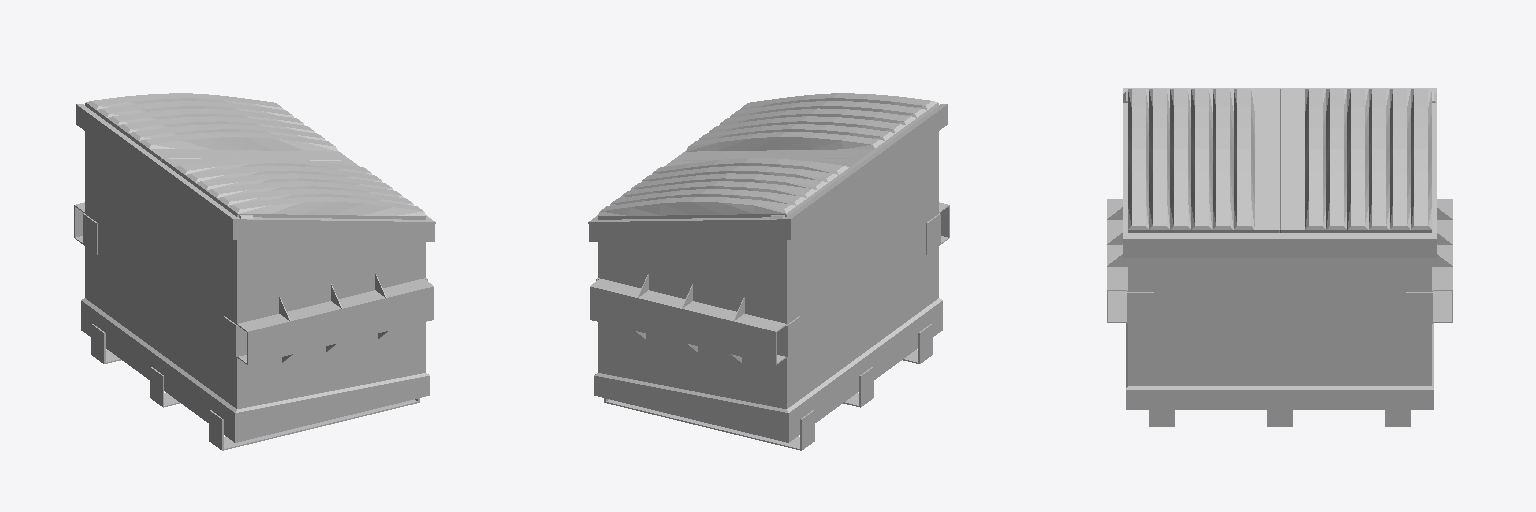
Rendered from Dumpster.obj.
The picture shows the model from 3 angles: view 1: azimuth 30°, elevation 25°; view 2: azimuth 150°, elevation 25°; view 3: azimuth 270°, elevation 25°; orthographic projection.
Visible parts, largest first — view 1: defaultMaterial; view 2: defaultMaterial; view 3: defaultMaterial.
Boxes of the visible parts, <box> form: defaultMaterial: <box>74,93,435,450</box>; defaultMaterial: <box>588,93,949,450</box>; defaultMaterial: <box>1107,88,1452,426</box>.
Size of the model in its own units: 1.35 by 1.56 by 2.